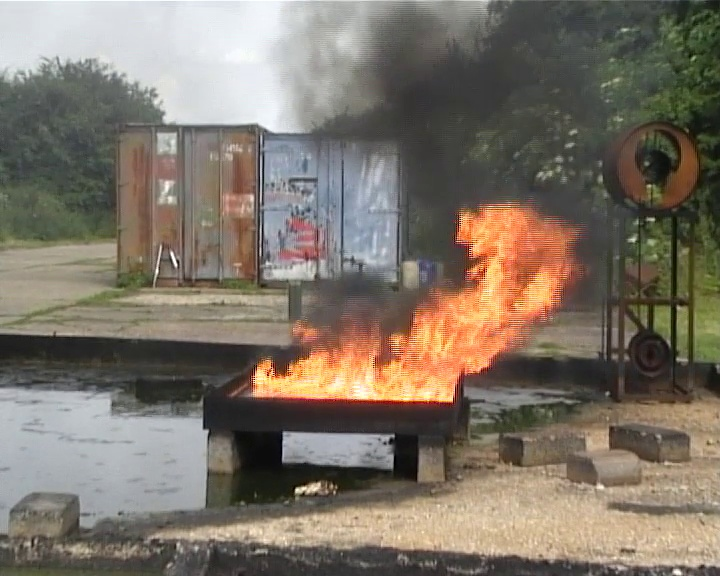fire: (256, 201, 569, 400)
